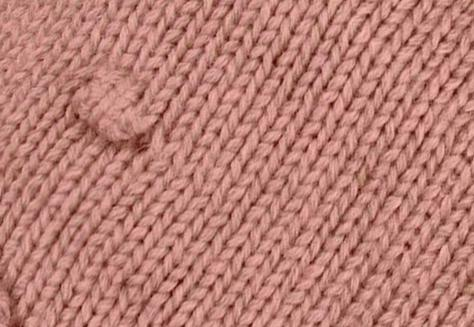knot: (68, 67, 157, 149)
